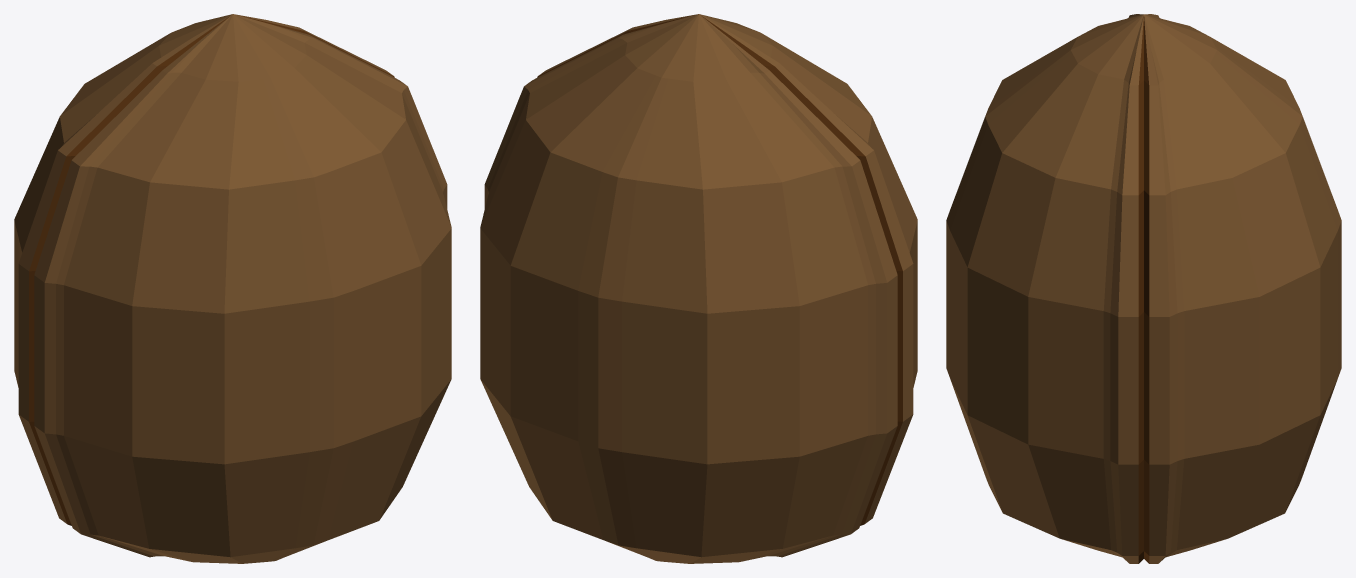
Rendered from Nut3HP.fbx.
3 renders of one model, left to right at view 1: azimuth 30°, elevation 25°; view 2: azimuth 150°, elevation 25°; view 3: azimuth 270°, elevation 25°, orthographic.
Visible parts, largest first — view 1: Full Life; view 2: Full Life; view 3: Full Life.
Part boxes in pixels (<box>): Full Life: <box>14,14,451,563</box>; Full Life: <box>480,14,917,563</box>; Full Life: <box>946,14,1341,563</box>.
Bounding box in the file's own units: 2.7 × 3.31 × 2.34.
